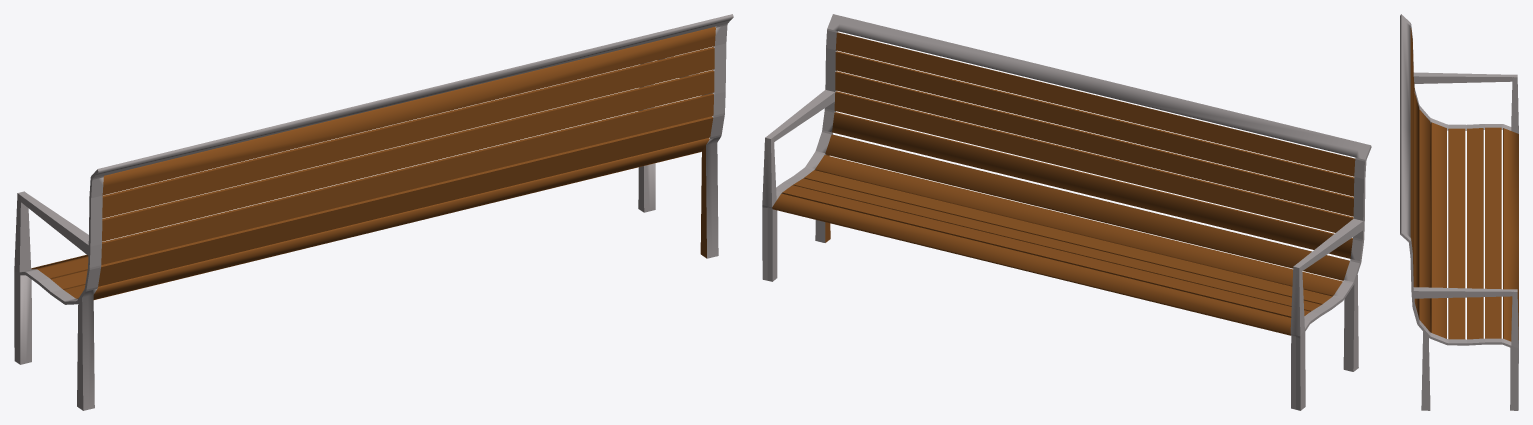
Rendered from Bench.fbx.
3 renders of one model, left to right at view 1: azimuth 30°, elevation 25°; view 2: azimuth 150°, elevation 25°; view 3: azimuth 270°, elevation 25°, orthographic. The views are drawn at different scales.
Parts seen in each view (by area): view 1: Bench; view 2: Bench; view 3: Bench.
Boxes of the visible parts, <box> form: Bench: <box>14,14,733,410</box>; Bench: <box>762,14,1371,410</box>; Bench: <box>1400,14,1518,410</box>.
Size of the model in its own units: 259 by 98.37 by 59.42.
